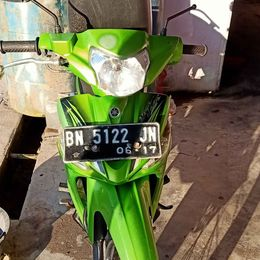plate: (63, 123, 159, 156)
